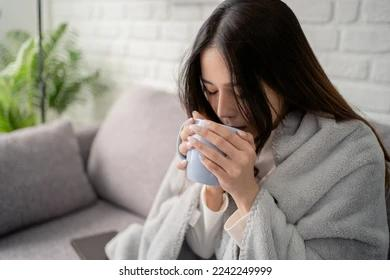blanket: (103, 116, 389, 261)
long sleeve shirt: (184, 128, 279, 260)
